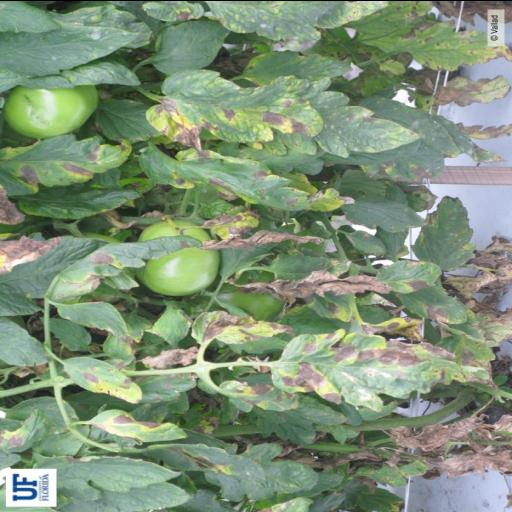Early Blight: (124, 148, 354, 212), (140, 71, 336, 146), (274, 327, 472, 397), (50, 232, 196, 300), (0, 235, 108, 317), (0, 132, 131, 196), (193, 303, 278, 355), (64, 354, 154, 394), (54, 300, 134, 344), (216, 378, 319, 410), (94, 407, 182, 444), (396, 284, 468, 324), (380, 256, 446, 294)
